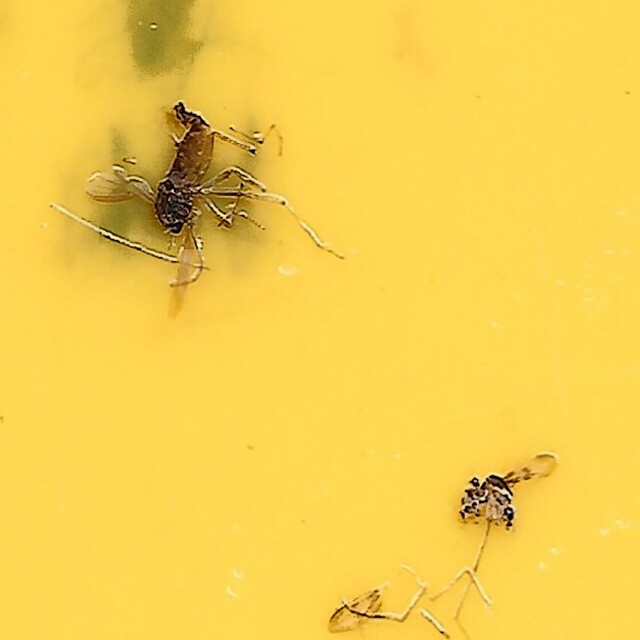Nematocera: (83, 105, 345, 292), (456, 449, 557, 535)
